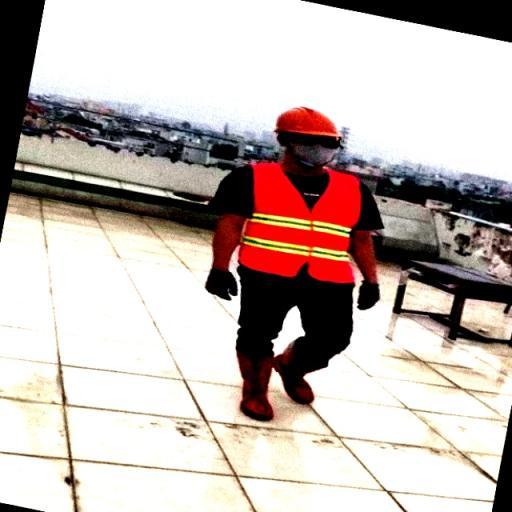Person: (172, 78, 396, 456)
boots: (221, 333, 278, 423), (269, 328, 327, 411)
gloves: (200, 257, 240, 306), (352, 270, 385, 316)
helmet: (268, 102, 350, 147)
vest: (239, 154, 365, 290)
